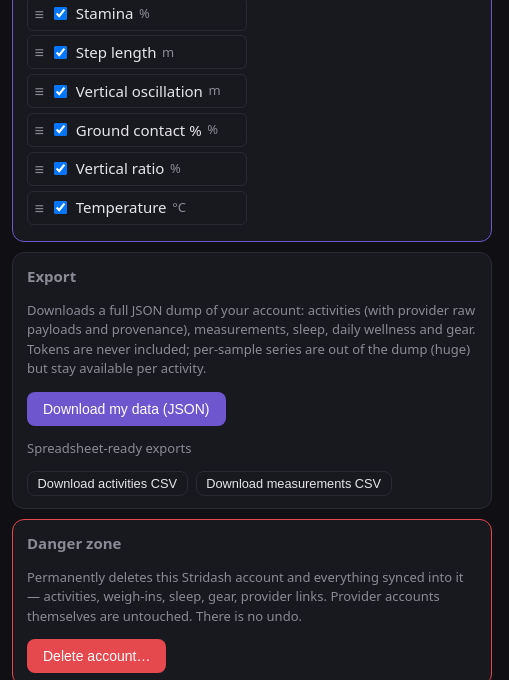
Scenario: SettingsSection › surfaces an export failure
(page scrolled)
Click the button "Download my data (JSON)".
click(126, 409)  # box [27,392,226,426]
(page scrolled)
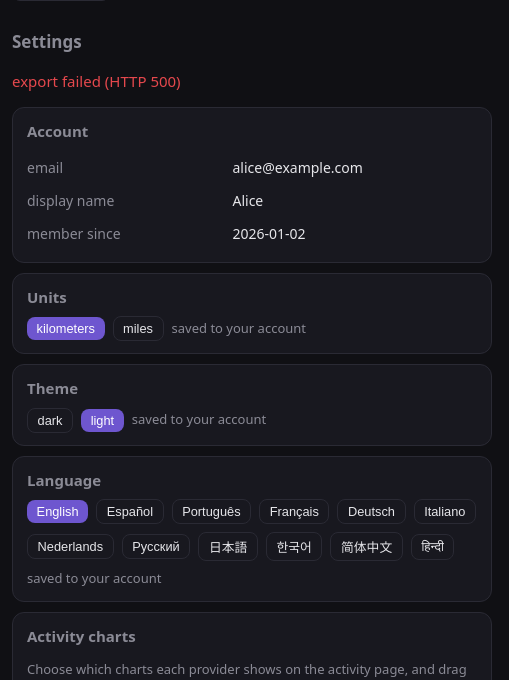
Expected: the text "export failed (HTTP 500)" is shown, [12,70,181,90]
